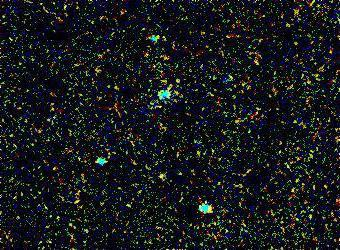star: (273, 12, 303, 42)
